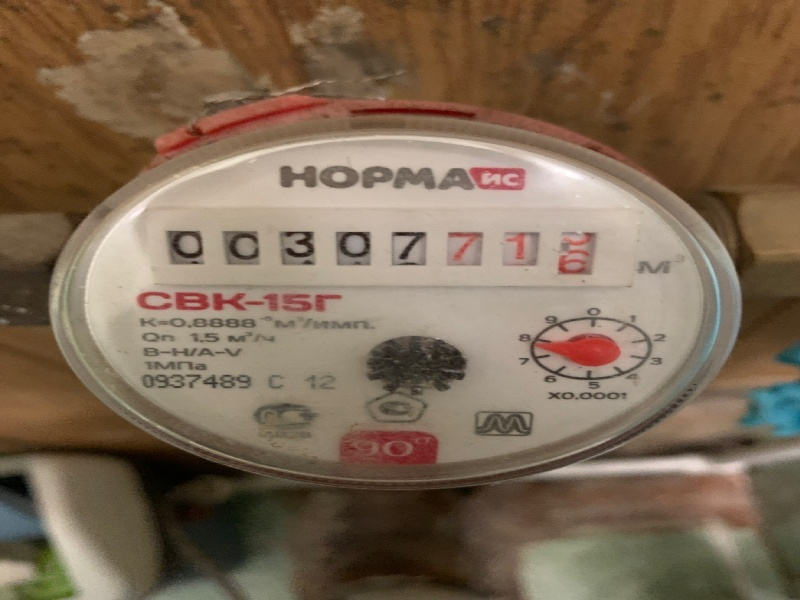meter: (151, 214, 603, 279)
